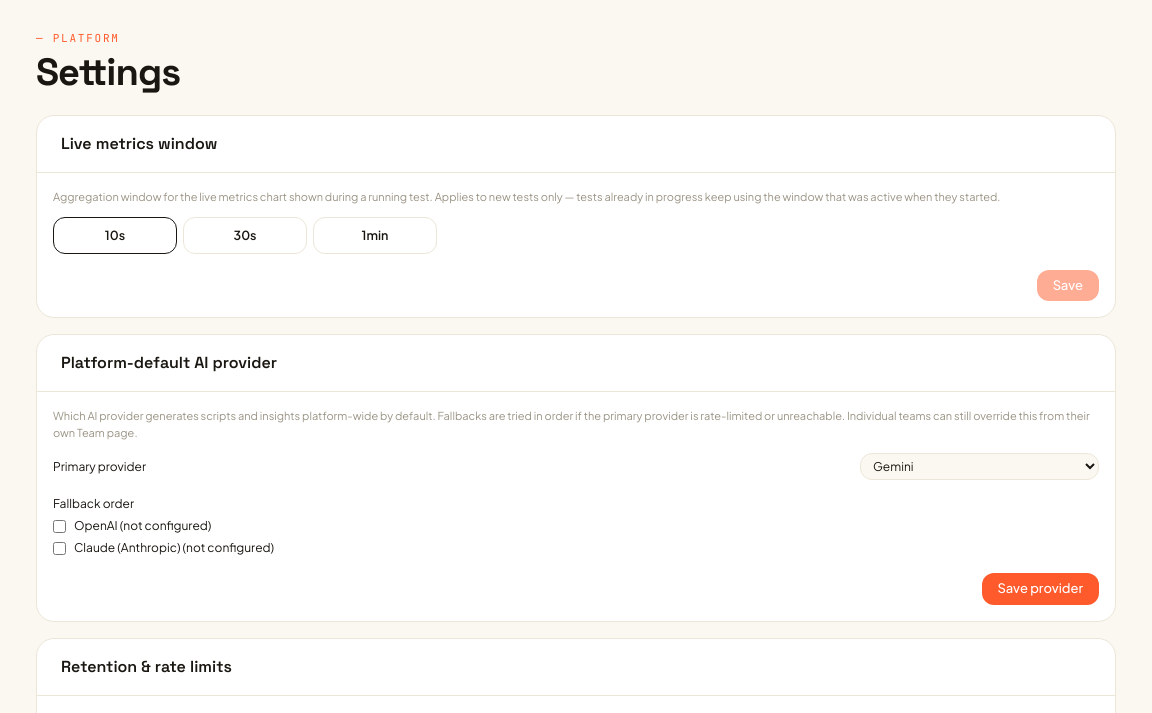
Scenario: SettingsPage — admin, saving a change › enables Save once a different window option is clicked
expect the text "10s" is shown: met, box [105,227,125,243]
Click the button "30s".
click(245, 235)  # box [183,217,307,254]
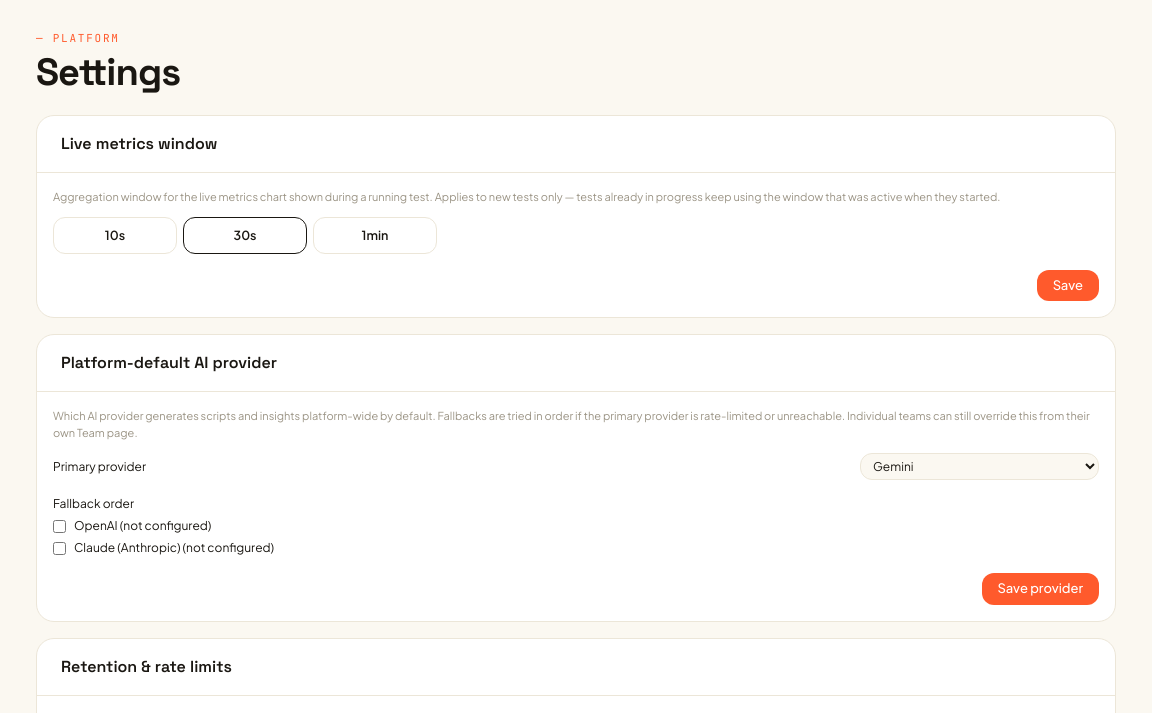
expect the button "Save" is enabled: met, box [1037,270,1099,301]
